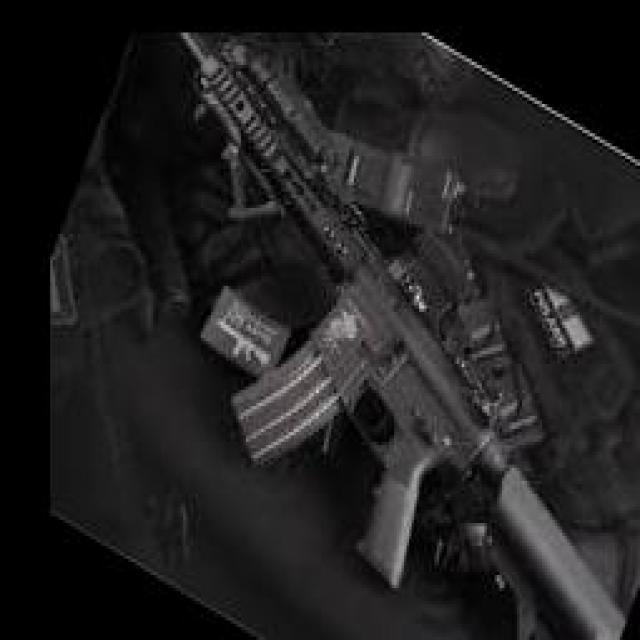weapon: (174, 32, 629, 640)
